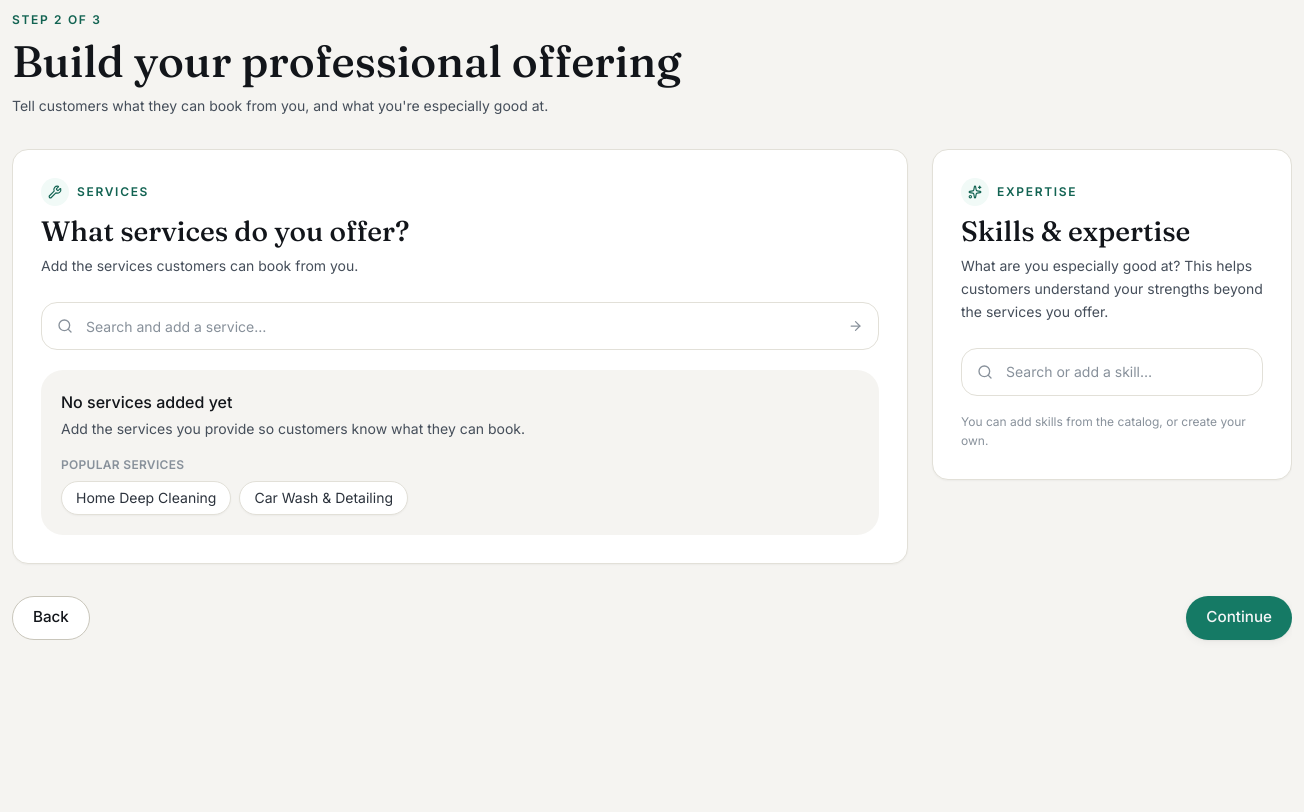
StepSkillsServices — services section › collapses a saved service into a summary card showing its price, and can be reopened to edit
Click the dropdown named "Search services": (460, 326) x1=41 y1=302 x2=879 y2=350
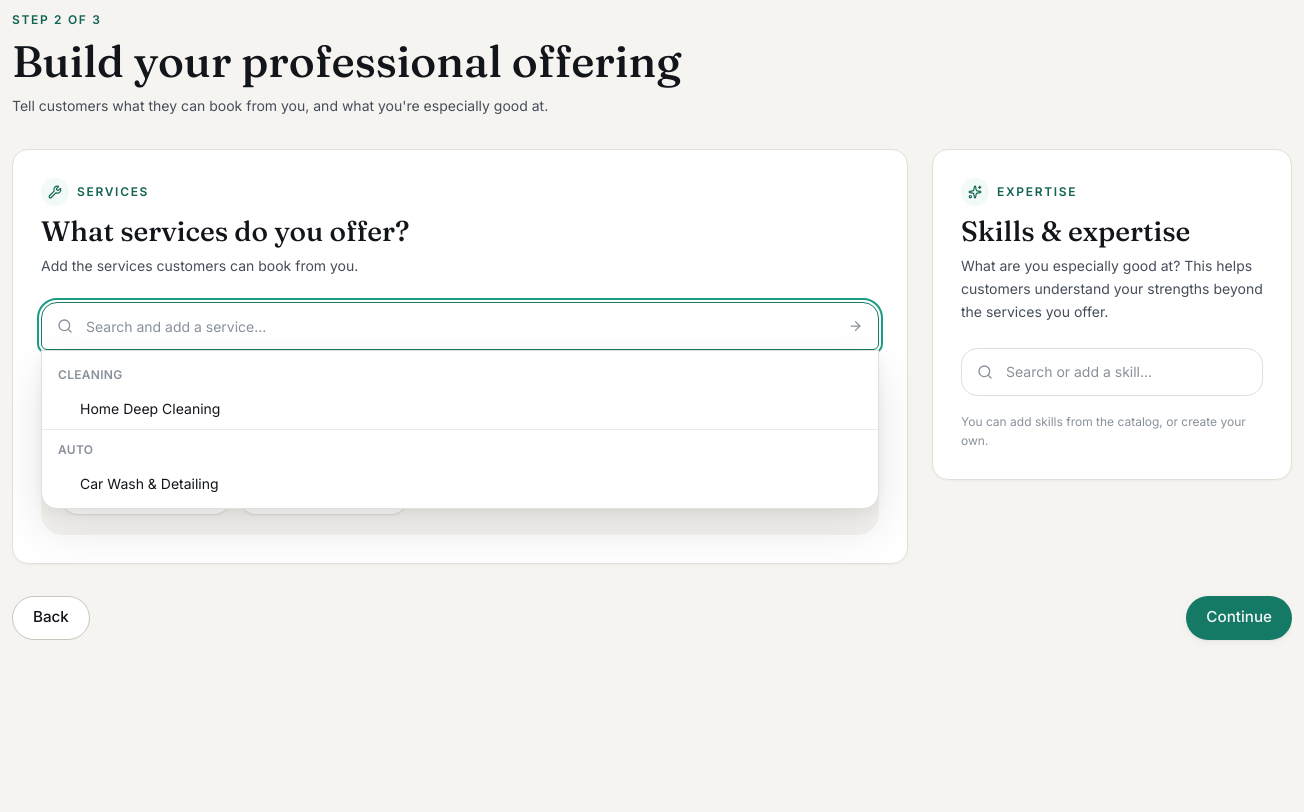
Click the option "Home Deep Cleaning": (150, 409) x1=80 y1=400 x2=220 y2=417
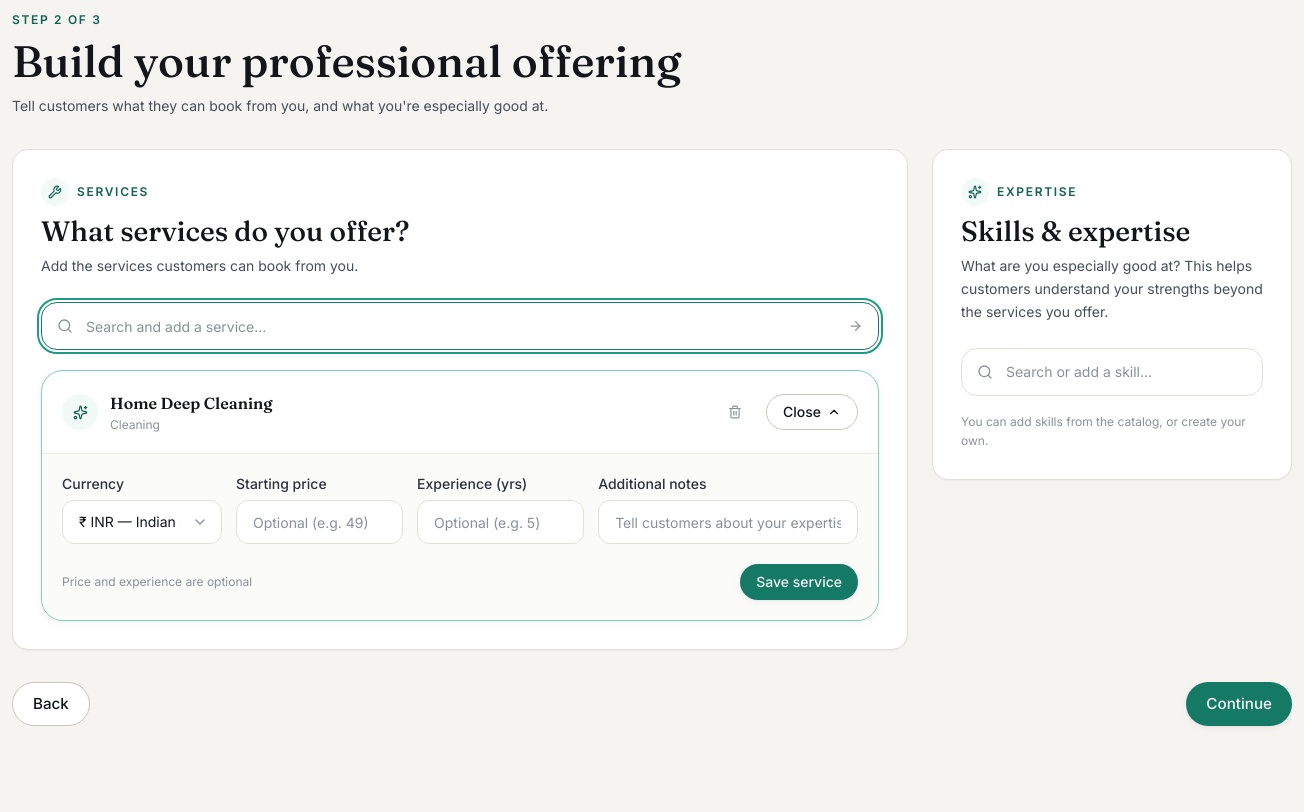
In the number field named "Price amount": (320, 522) x1=236 y1=500 x2=403 y2=544, type "80"
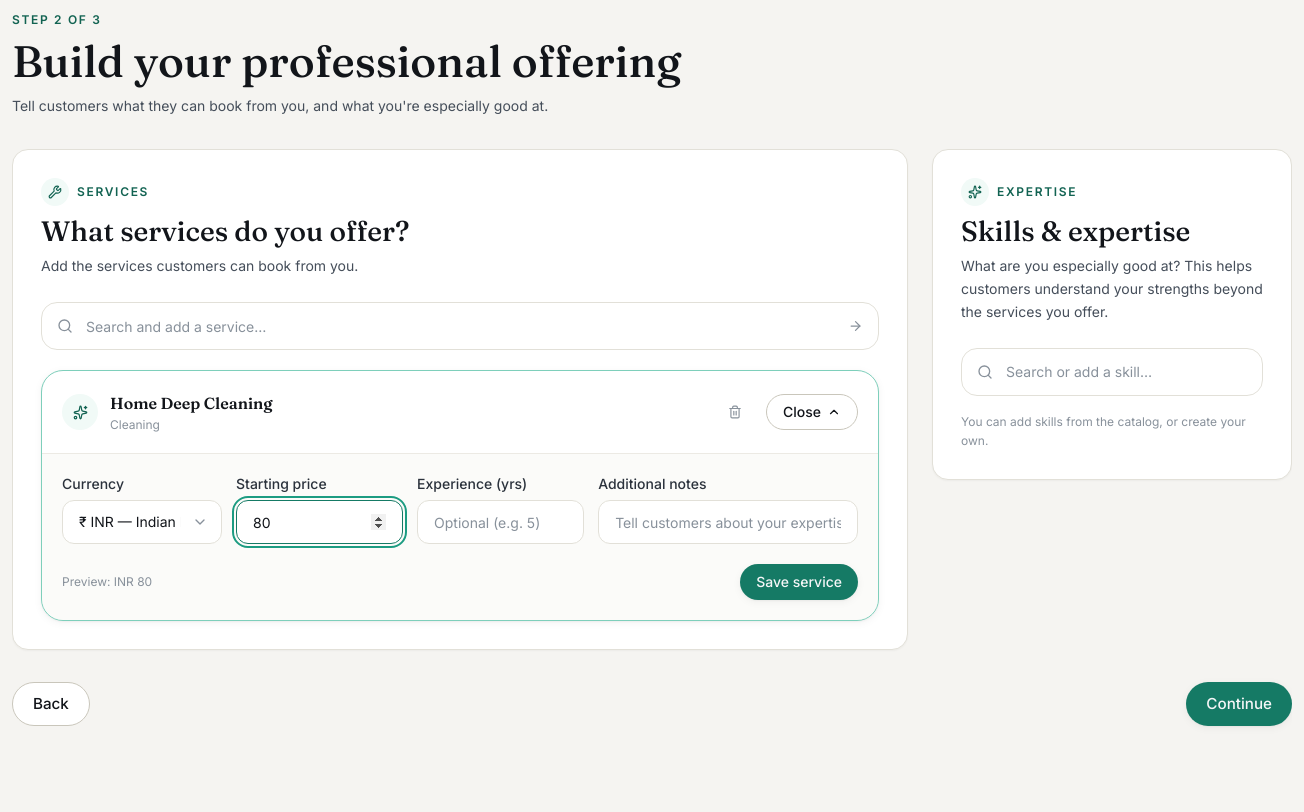
Click the button "Save service": (799, 582) x1=740 y1=564 x2=858 y2=600
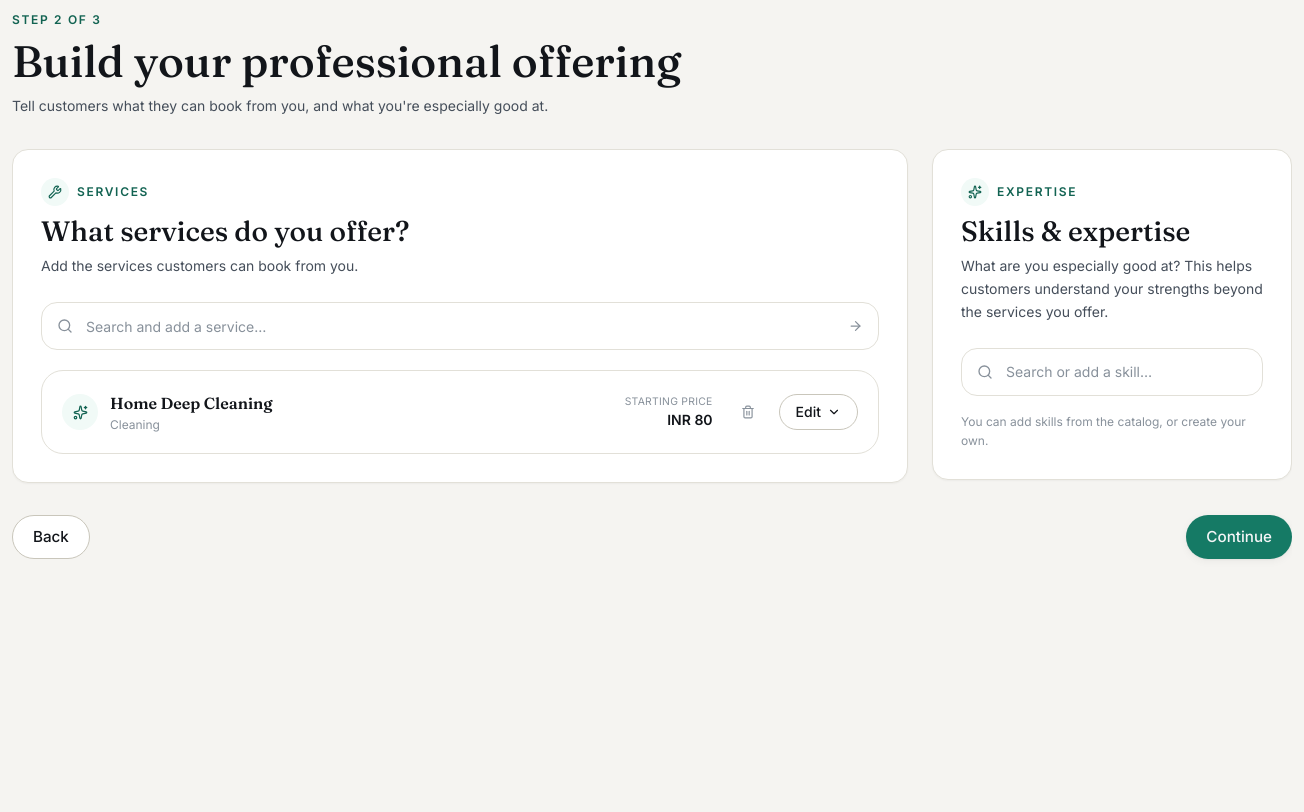
Click the button "Edit": (818, 412) x1=779 y1=394 x2=858 y2=430
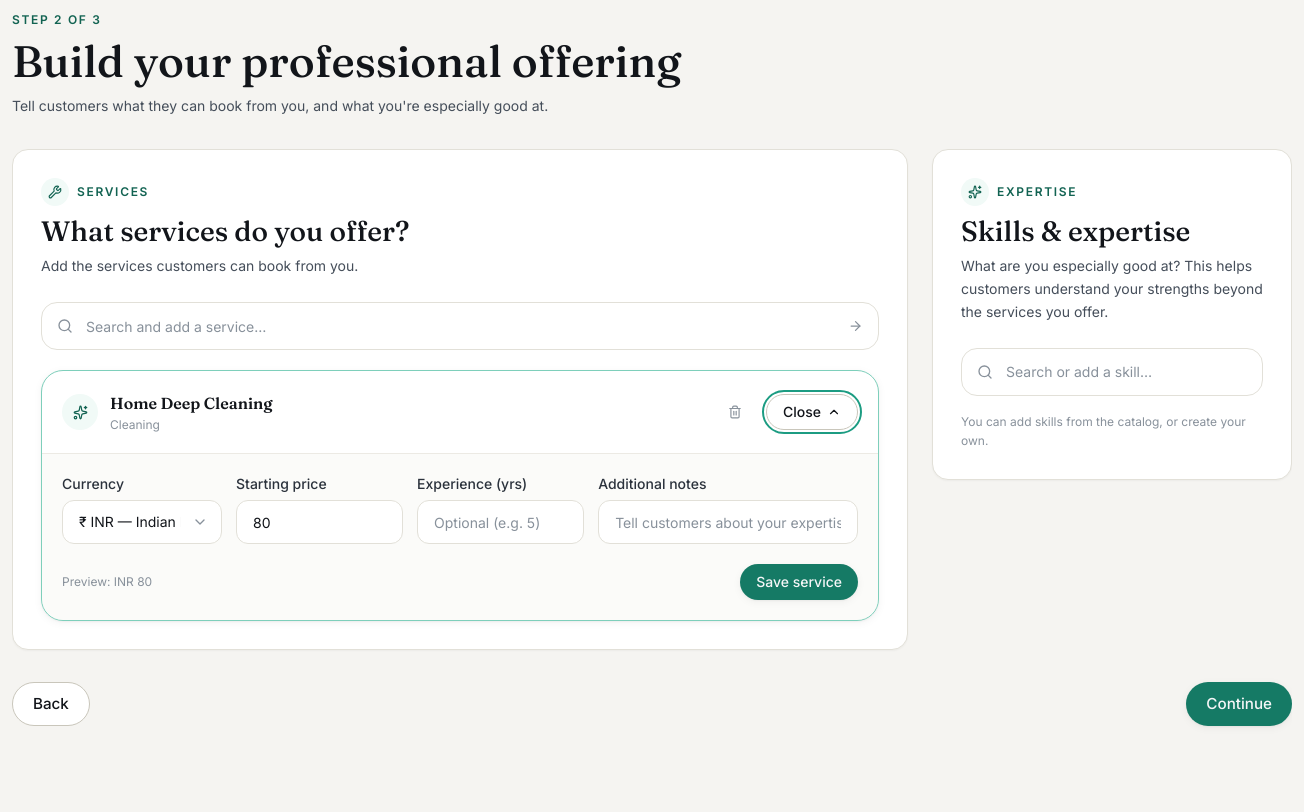
expect the number field named "Price amount" holds "80": met, box x1=236 y1=500 x2=403 y2=544
